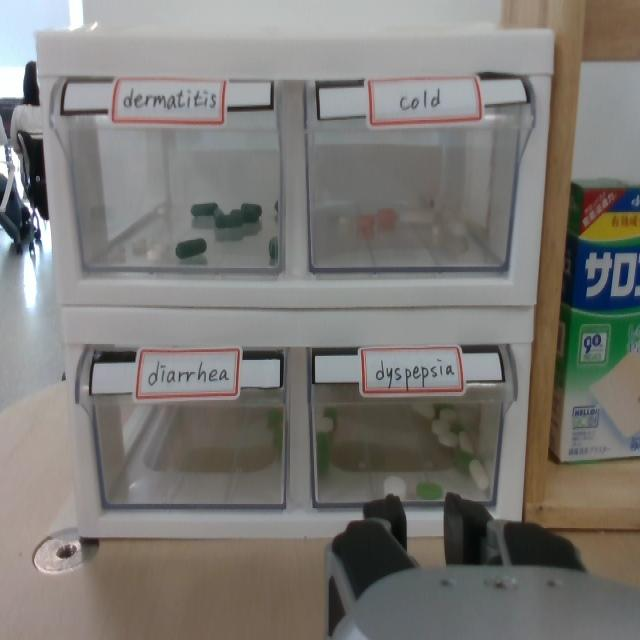text: (370, 355, 460, 388), (121, 86, 222, 115), (146, 358, 232, 388), (393, 85, 449, 114)
